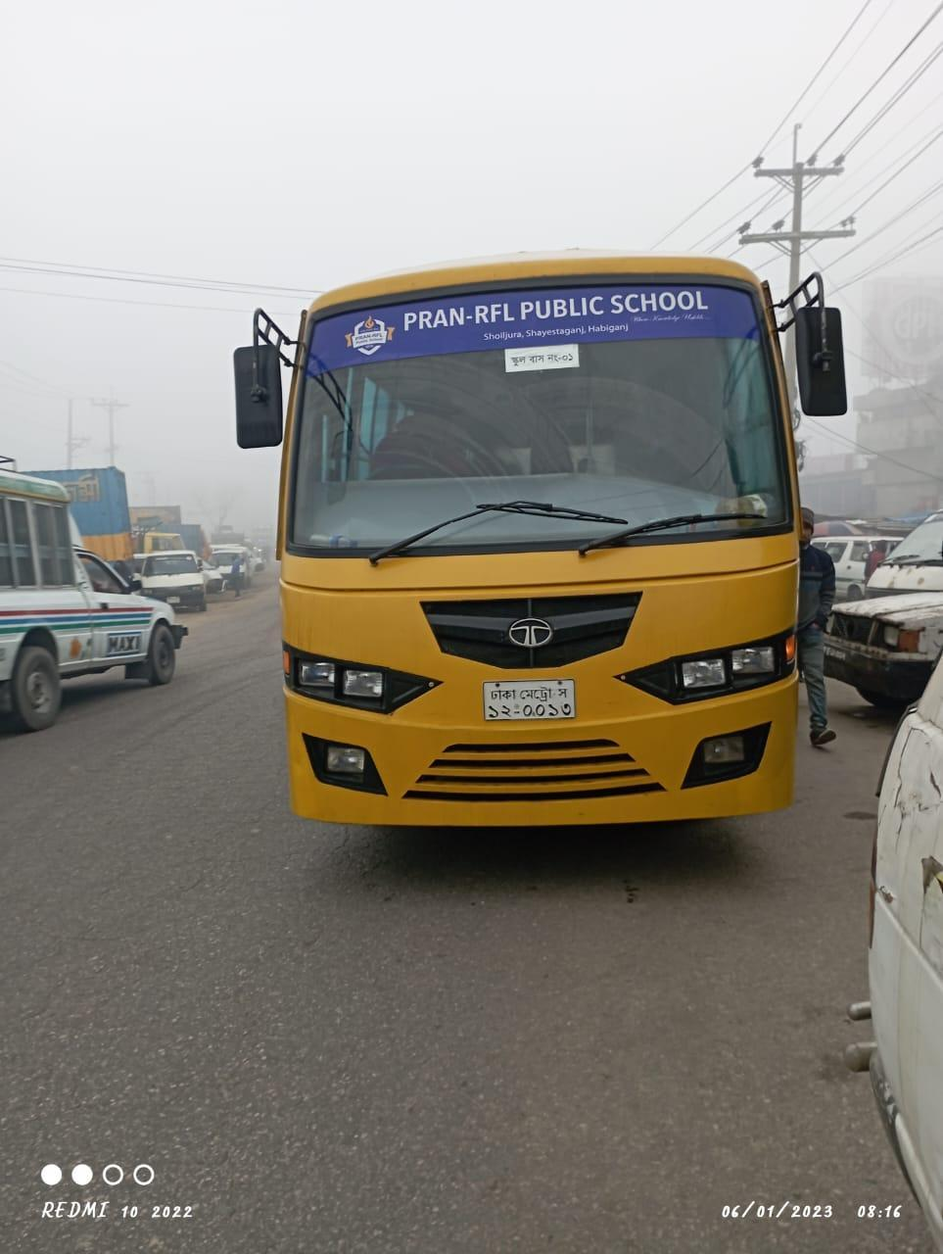Bus: (206, 238, 836, 862)
Car: (4, 435, 185, 718), (139, 538, 206, 619)
